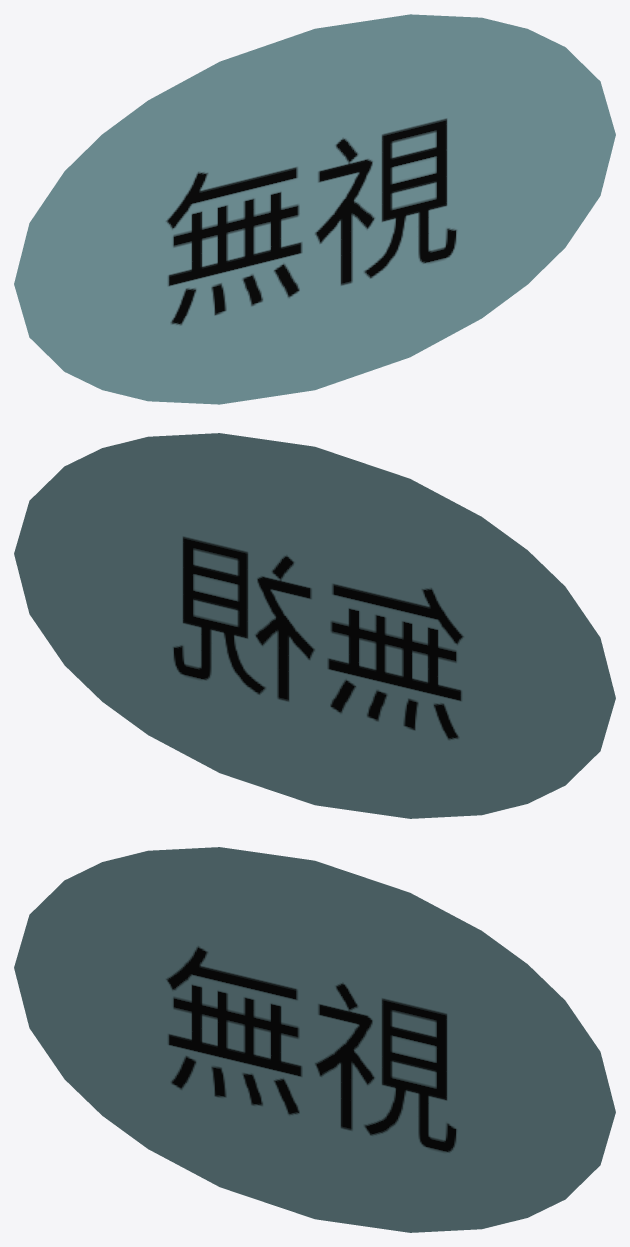
The model's file is Q1YES.gltf.
The picture shows the model from 3 angles, top to bottom: view 1: azimuth 30°, elevation 25°; view 2: azimuth 150°, elevation 25°; view 3: azimuth 330°, elevation 25°; orthographic projection.
Visible parts, largest first — view 1: 平面.002; view 2: 平面.002; view 3: 平面.002.
Boxes of the visible parts, bbox=[...] form: 平面.002: bbox=[14, 14, 615, 404]; 平面.002: bbox=[14, 433, 615, 818]; 平面.002: bbox=[14, 847, 615, 1232].
Bounding box in the file's own units: 9.11 × 5.21 × 0.0647.
Materials: 1 (1 with a texture image).
